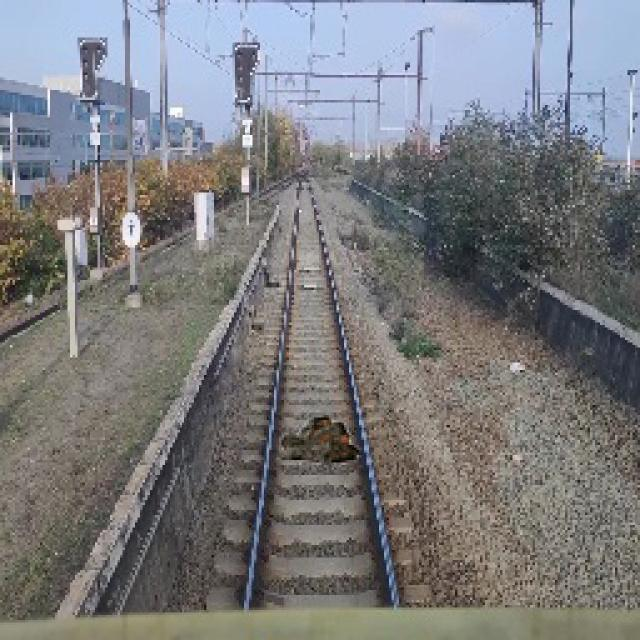rail: (184, 169, 449, 617)
